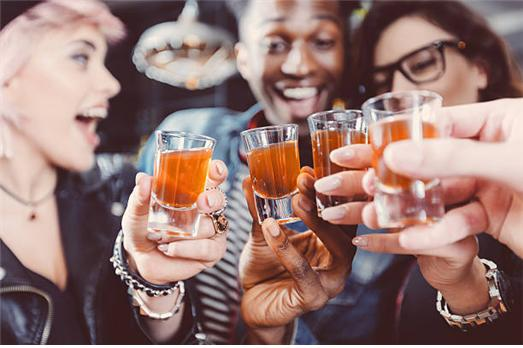alcohol: (362, 89, 446, 231), (307, 109, 375, 219), (148, 129, 215, 240), (242, 125, 300, 228)
